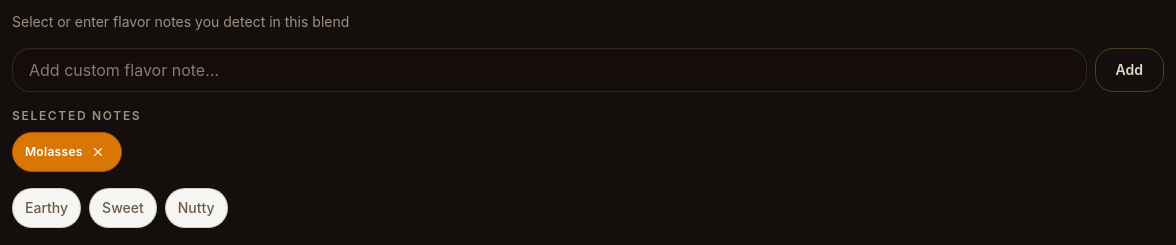
Test: FlavorProfileField › allows removing a custom flavor chip
Click the button named "Remove flavor note Molasses": (98, 152) [87,141,109,163]
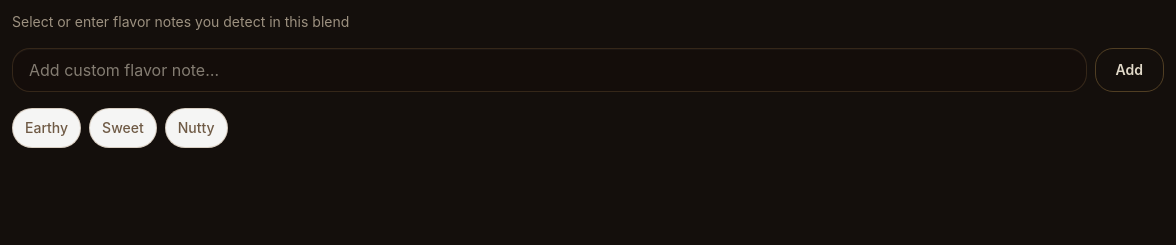
Check: the text "Molasses" is gone
